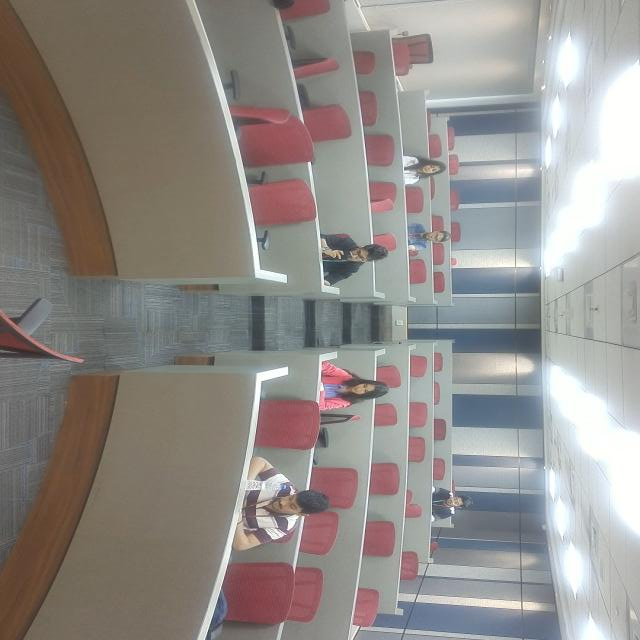cheating: (234, 260, 287, 328)
non-cheating: (359, 242, 412, 337), (148, 186, 190, 250)
